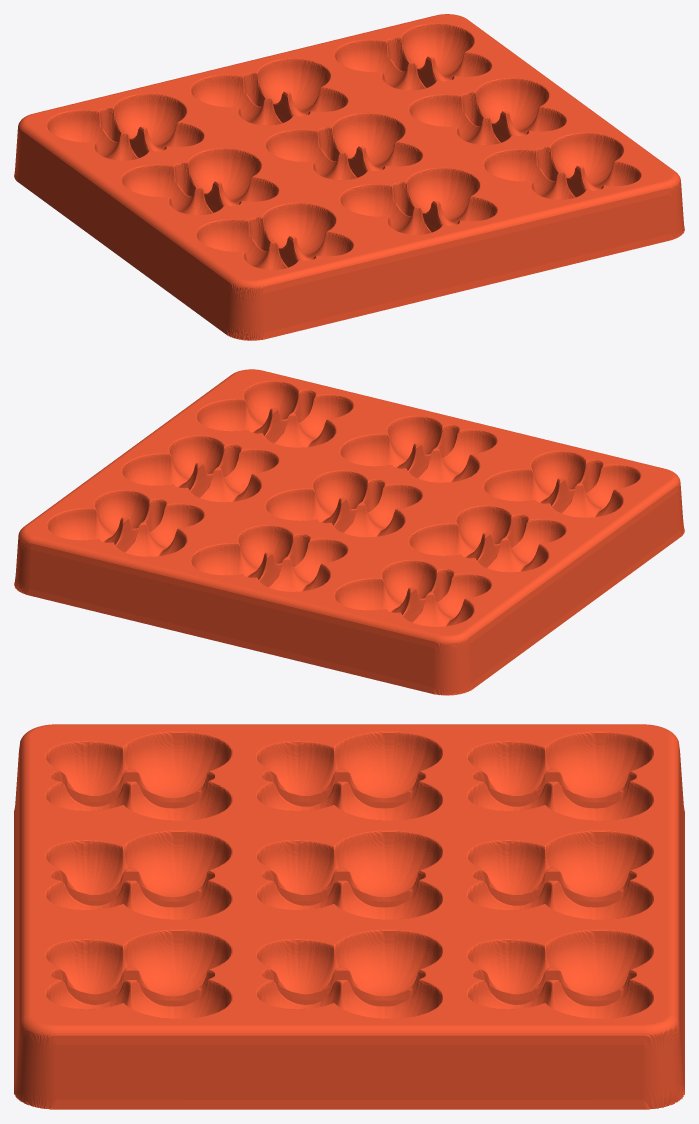
File: mold.glb
3 renders of one model, top to bottom at view 1: azimuth 30°, elevation 25°; view 2: azimuth 150°, elevation 25°; view 3: azimuth 270°, elevation 25°, orthographic. The views are drawn at different scales.
Visible parts, largest first — view 1: geometry_0; view 2: geometry_0; view 3: geometry_0.
Part boxes in pixels (left/top/right/bottom): geometry_0: left=14, top=14, right=684, bottom=340; geometry_0: left=14, top=369, right=684, bottom=695; geometry_0: left=14, top=724, right=684, bottom=1109.
Bounding box in the file's own units: 0.1595 × 0.0185 × 0.1443.
